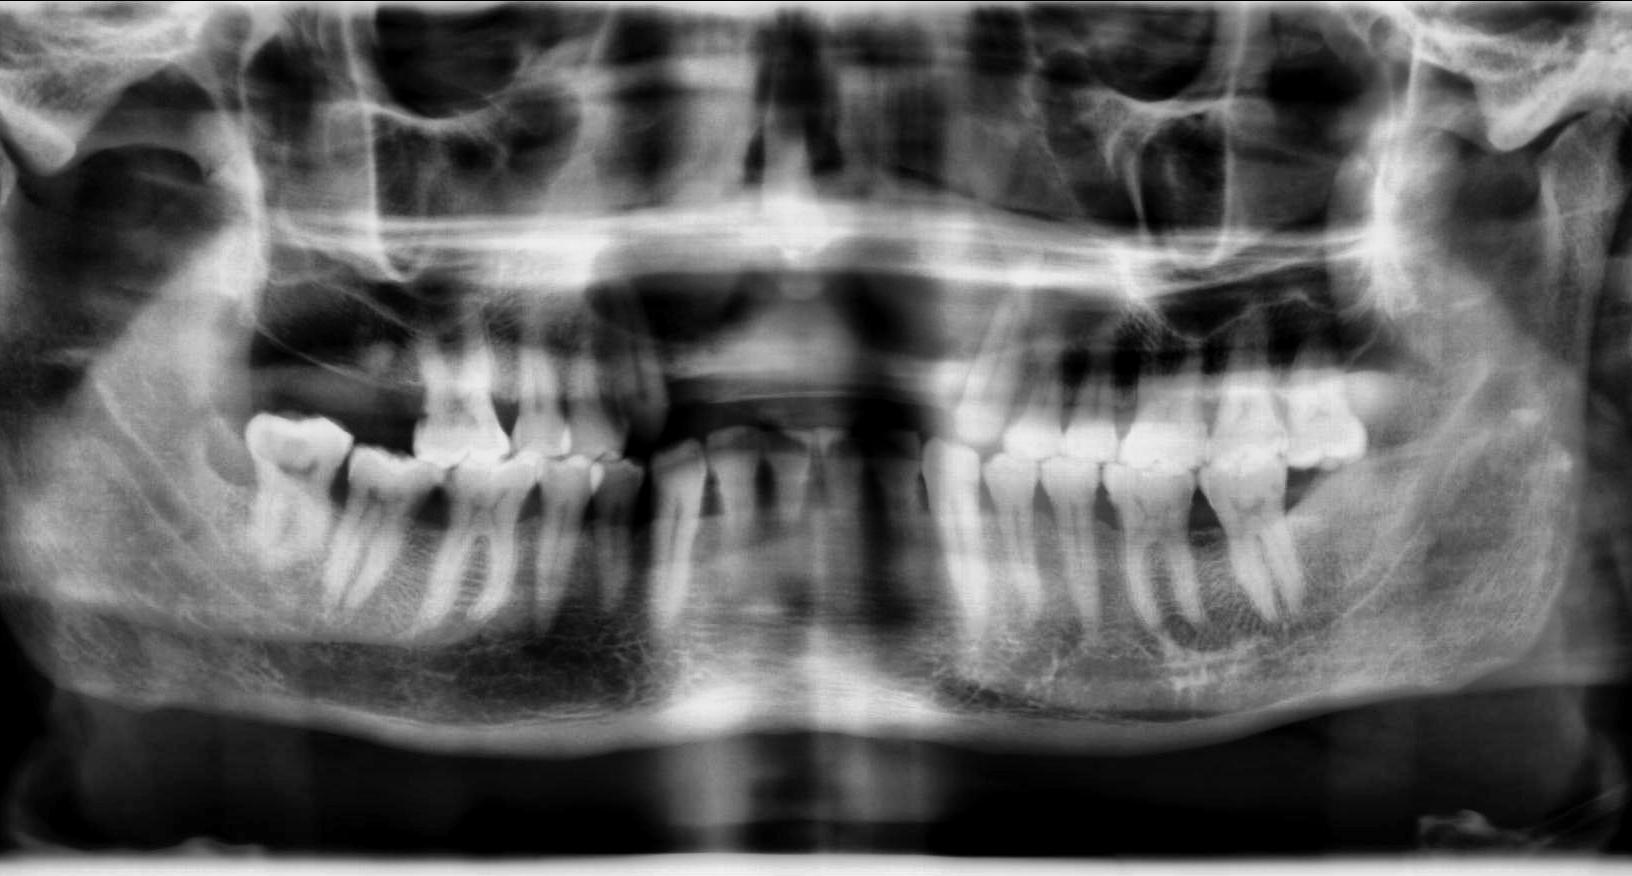keratokist: (582, 199, 1130, 361)
